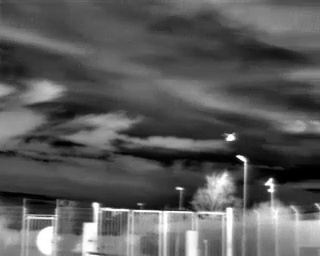HELICOPTER: (221, 128, 241, 145)
